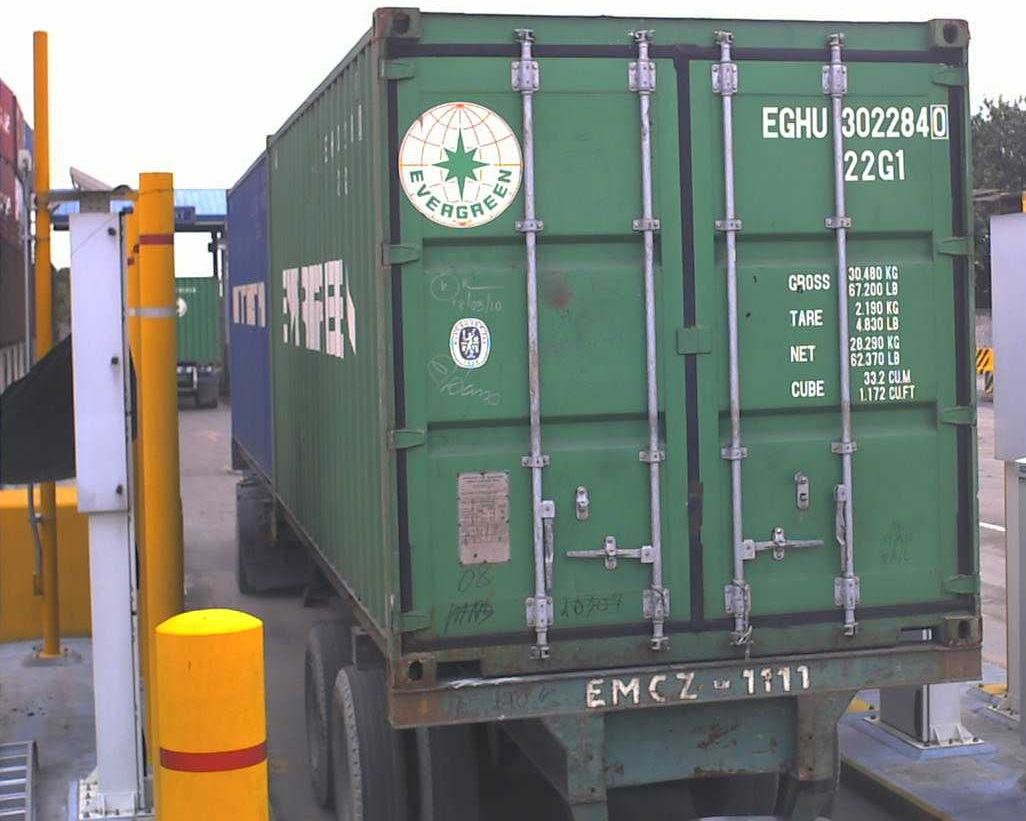container_door: (370, 6, 980, 706)
